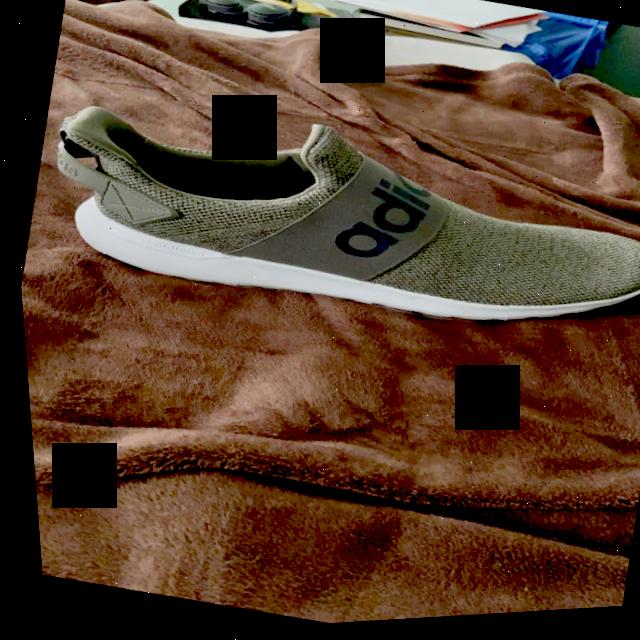shoe: (24, 55, 640, 396)
